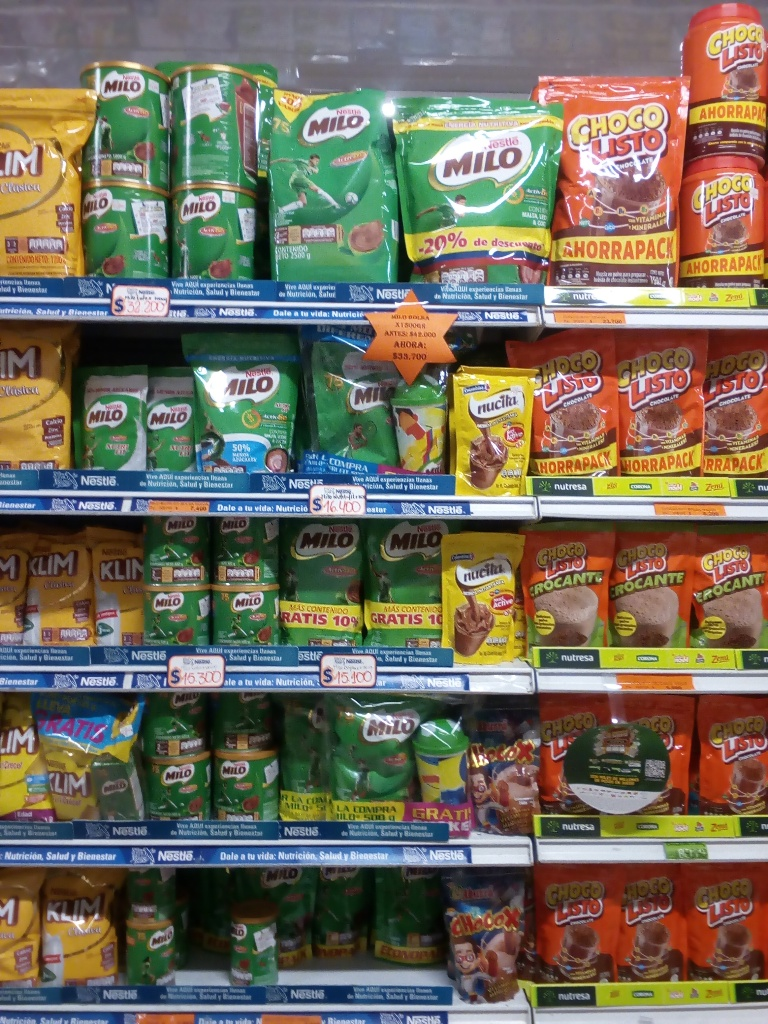COL0170102DYP25000: (684, 521, 767, 650)
COL0170103DYP1,500: (537, 72, 685, 286)
COL0170103DYP20000: (678, 866, 767, 981)
COL0170103DYP44000: (695, 329, 765, 477)
COL0170103TRR00100: (679, 156, 768, 289)
COL0170203DYP50000: (364, 519, 450, 650)
COL0170203LAT20000: (228, 903, 282, 986)
COL0170203LAT40000: (217, 749, 279, 822)
COL0170205DYP20000: (142, 365, 203, 472)
COL0170205DYP50000: (311, 338, 399, 465)
